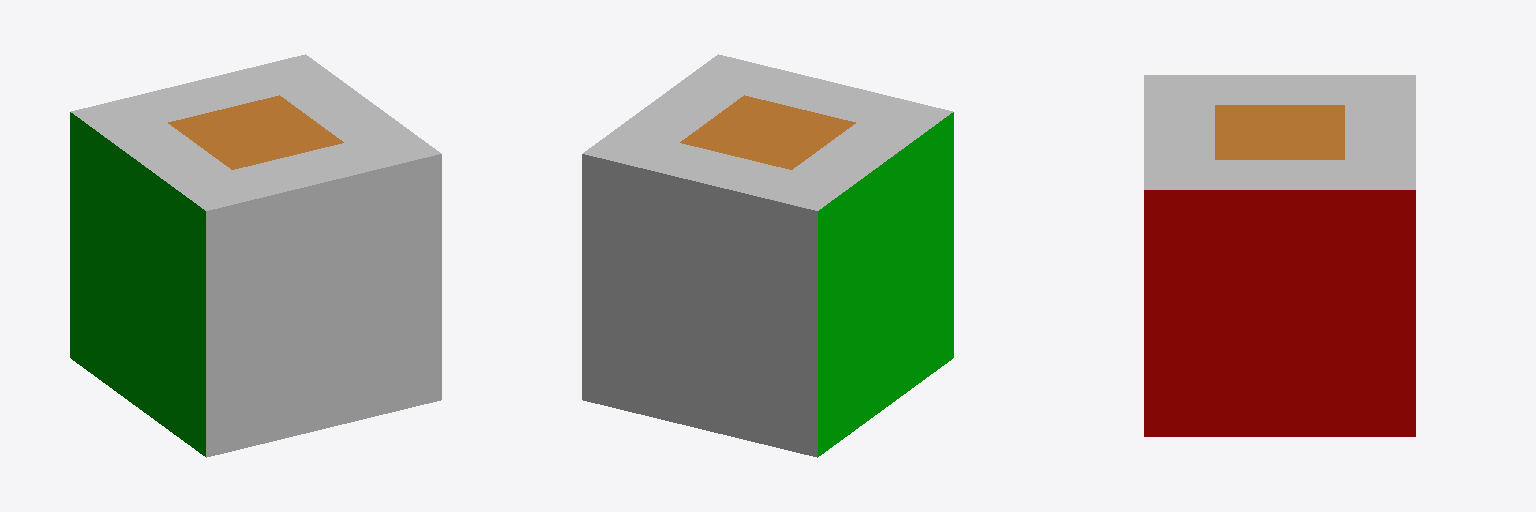
File: red_green_cube_complex_optimized.obj
3 views of the same model, side by side, from view 1: azimuth 30°, elevation 25°; view 2: azimuth 150°, elevation 25°; view 3: azimuth 270°, elevation 25° (orthographic).
Parts seen in each view (by area): view 1: Cube; view 2: Cube; view 3: Cube.
Boxes of the visible parts, x1=… form: Cube: x1=70, y1=54, x2=441, y2=457; Cube: x1=582, y1=54, x2=953, y2=457; Cube: x1=1144, y1=75, x2=1415, y2=436.
Size of the model in its own units: 4 by 4 by 4.